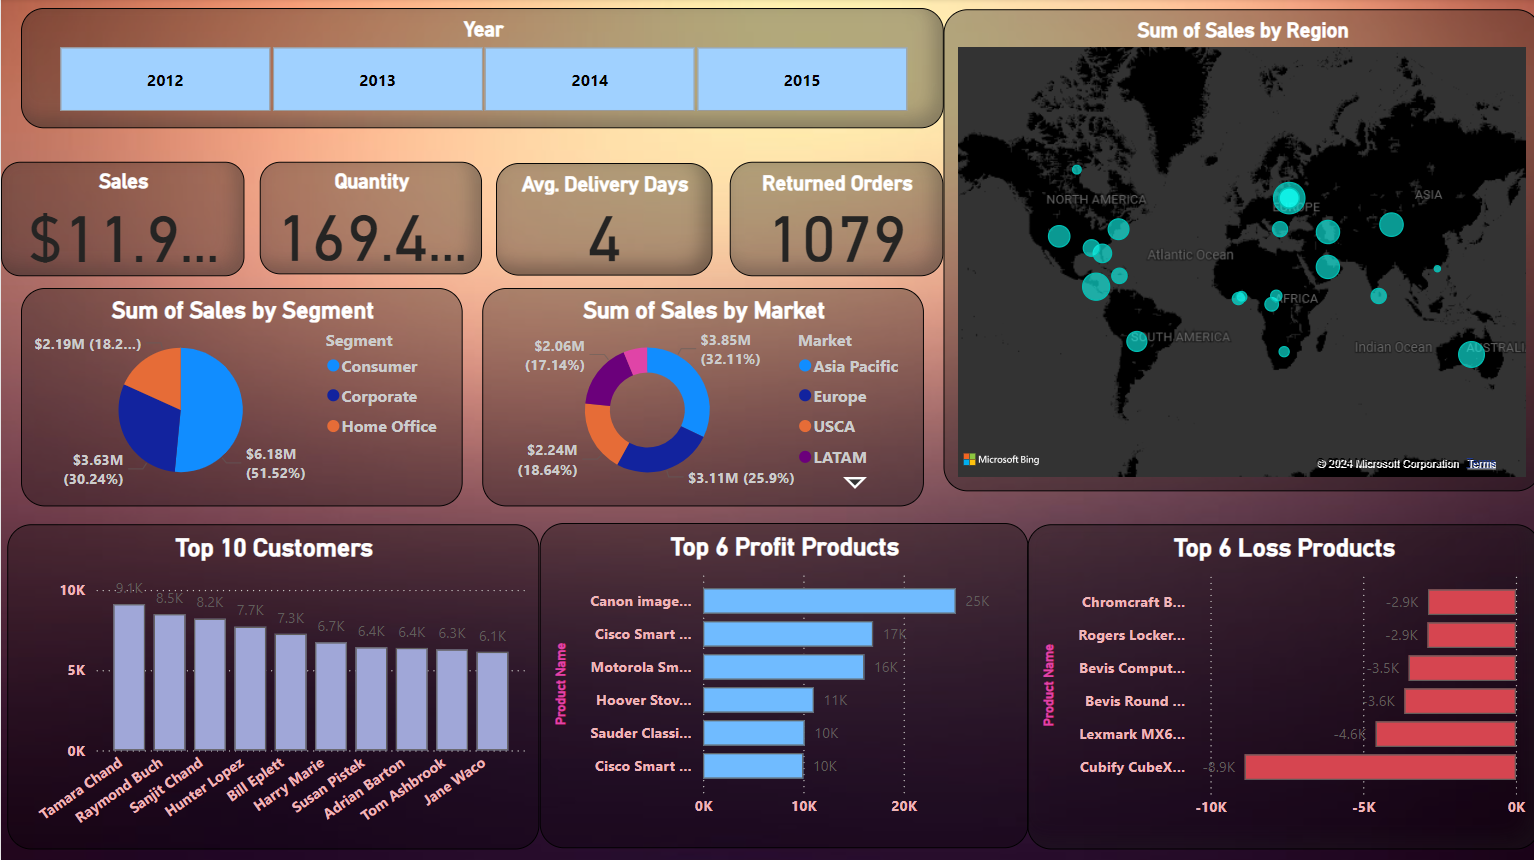

Layout of this report page (visuals, bound fields, positions):
{"tool":"powerbi","page":{"name":"Page 1","canvas":[1280,720],"ordinal":0},"visuals":[{"type":"card","title":"Sales","fields":{"Values":["Orders.Sales"]},"box":[0,136.2,202.5,95],"z":0},{"type":"card","title":"Quantity","fields":{"Values":["Orders.Quantity"]},"box":[215,136.2,185,93.8],"z":1000},{"type":"card","title":"Avg. Delivery Days","fields":{"Values":["Orders.Delivery Days"]},"box":[411.2,137.5,180,93.8],"z":2000},{"type":"card","title":"Returned Orders","fields":{"Values":["Returns.Return Orders"]},"box":[606.2,136.2,177.5,95],"z":3000},{"type":"slicer","title":"Year","fields":{"Values":["Orders.Year"]},"box":[16.2,8.8,767.5,100],"z":4000},{"type":"map","fields":{"Category":["Orders.Region"],"Size":["Orders.Sales"]},"box":[783.8,0,496.2,401.2],"z":5000},{"type":"barChart","title":"Top 6 Profit Products","fields":{"Y":["Orders.Profit"],"Category":["Orders.Product Name"]},"box":[447.5,437,406.2,270],"z":6000},{"type":"barChart","title":"Top 6 Loss Products","fields":{"Y":["Orders.Profit"],"Category":["Orders.Product Name"]},"box":[853.8,437.5,426.2,270],"z":7000},{"type":"pieChart","fields":{"Category":["Orders.Segment"],"Y":["Orders.Sales"]},"box":[16.2,241.2,367.5,181.2],"z":8000},{"type":"donutChart","fields":{"Y":["Orders.Sales"],"Category":["Orders.Market"]},"box":[400,241.2,367.5,181.2],"z":8001},{"type":"clusteredColumnChart","title":"Top 10 Customers","fields":{"Y":["Orders.Profit"],"Category":["Orders.Customer Name"]},"box":[5,437.5,442.5,270],"z":8002}]}

Visuals, with their boxes in screenshot pixels (x1, y1, x2, y2), scaled from the page's 1280x720 canvas onto the 1534x860 screenshot:
"Sales" card: Rect(0, 163, 243, 276)
"Quantity" card: Rect(258, 163, 479, 275)
"Avg. Delivery Days" card: Rect(493, 164, 709, 276)
"Returned Orders" card: Rect(726, 163, 939, 276)
"Year" slicer: Rect(19, 11, 939, 130)
map - Orders.Region x Orders.Sales: Rect(939, 0, 1533, 479)
"Top 6 Profit Products" barChart: Rect(536, 522, 1023, 844)
"Top 6 Loss Products" barChart: Rect(1023, 523, 1533, 845)
pieChart - Orders.Segment x Orders.Sales: Rect(19, 288, 460, 505)
donutChart - Orders.Sales x Orders.Market: Rect(479, 288, 920, 505)
"Top 10 Customers" clusteredColumnChart: Rect(6, 523, 536, 845)
